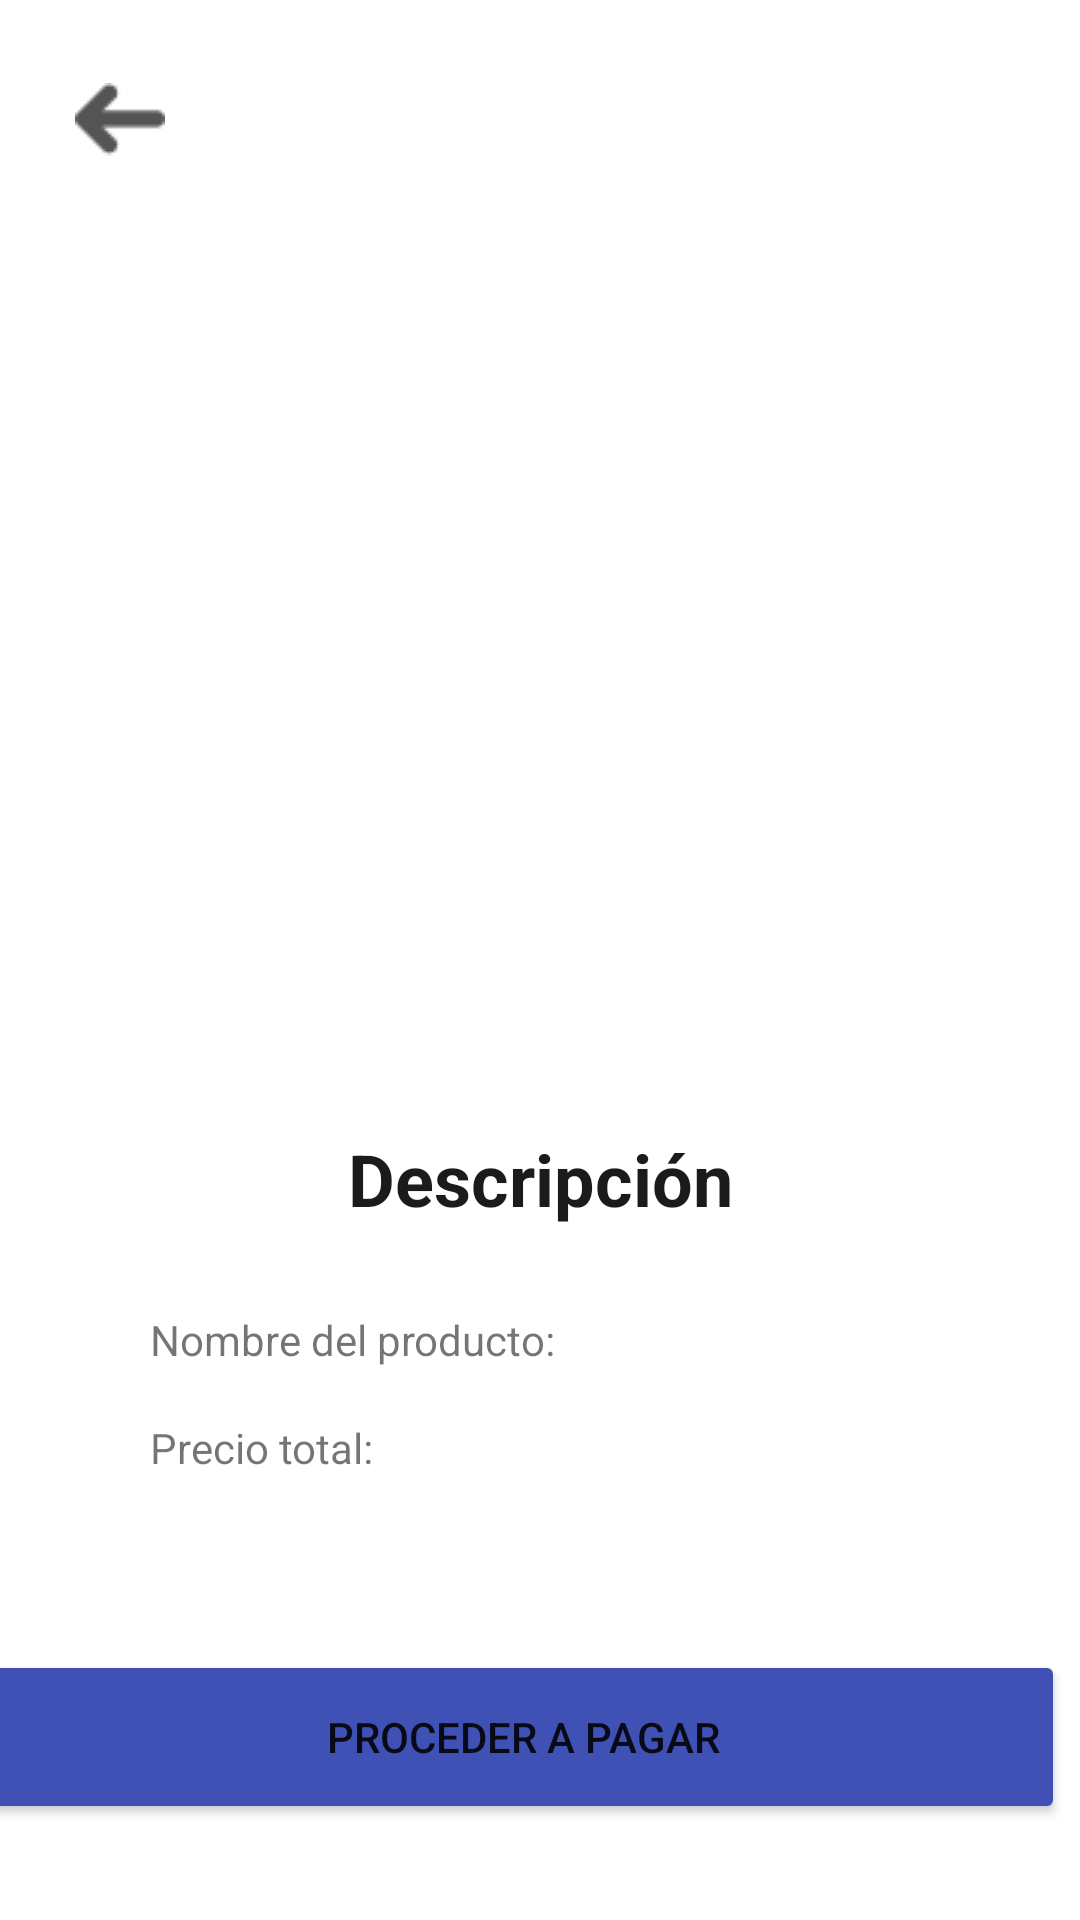

Named icons in this screenshot (1080 × 1920) and their centers, (x=x, y=y):
arrow: (x=120, y=119)
